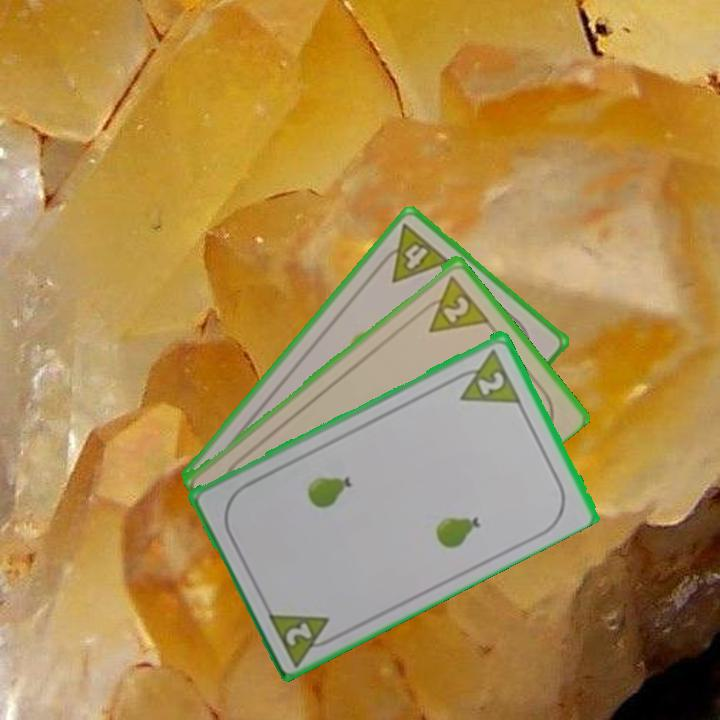2p: (263, 607, 343, 667), (447, 344, 523, 406), (439, 292, 473, 325)
4p: (372, 220, 453, 286)
